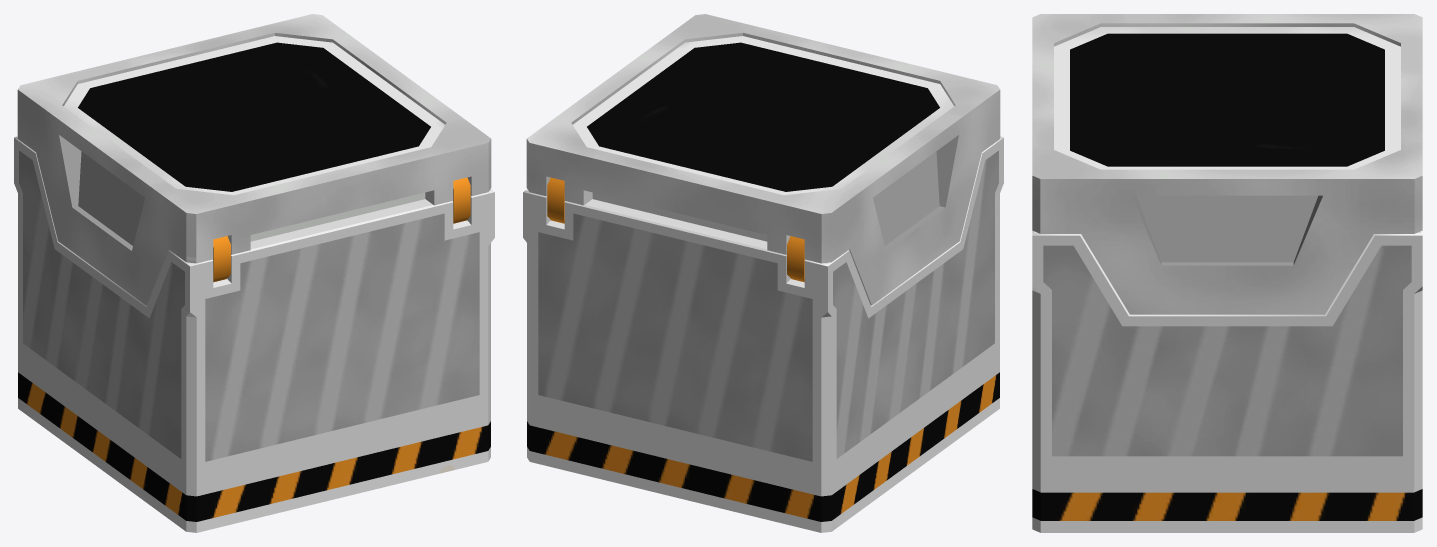
File: package.obj
3 renders of one model, left to right at view 1: azimuth 30°, elevation 25°; view 2: azimuth 150°, elevation 25°; view 3: azimuth 270°, elevation 25°, orthographic. The views are drawn at different scales.
Visible parts, largest first — view 1: Package1; view 2: Package1; view 3: Package1.
Part boxes in pixels (x1,y1,x2,y2): Package1: (14,14,494,532); Package1: (523,14,1003,532); Package1: (1032,14,1422,532).
Bounding box in the file's own units: 4 × 4 × 4.
1 material, 1 textured.
